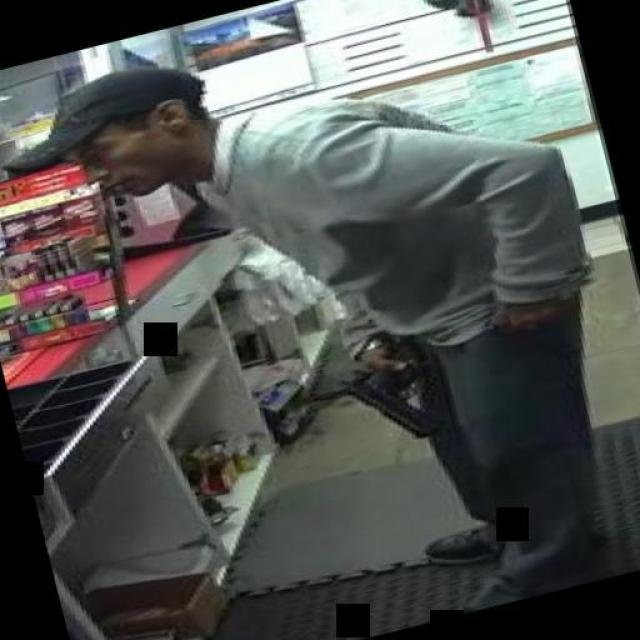gun: (334, 343, 450, 455)
